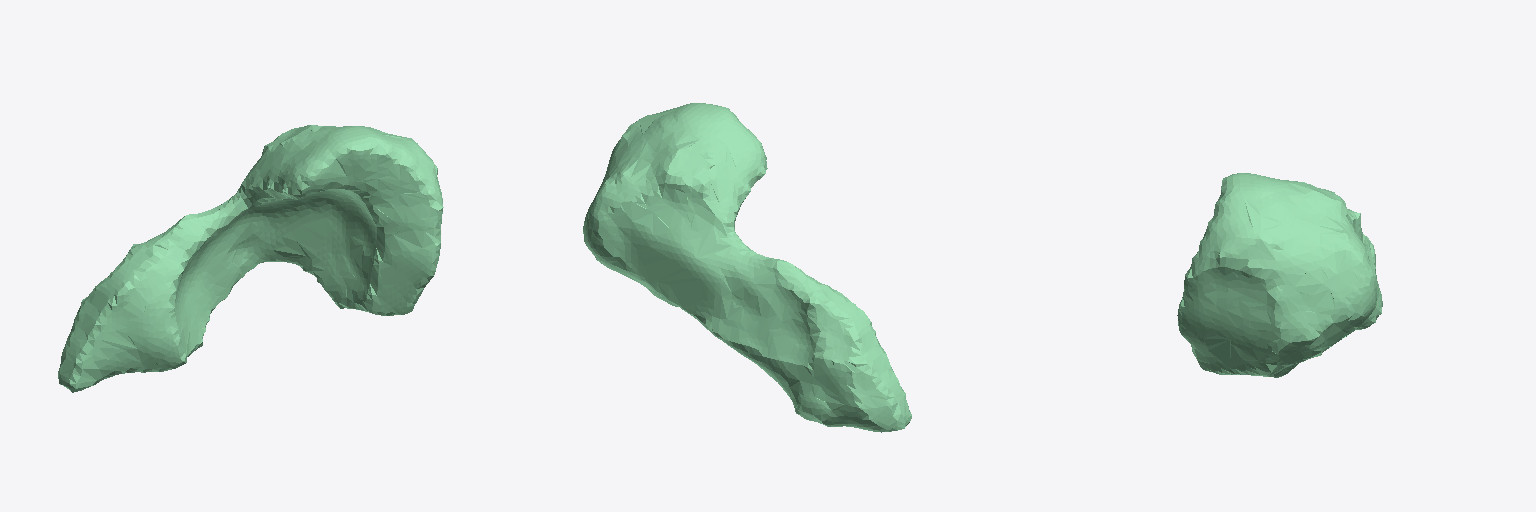
Rendered from Model_10229_LH__Accumbens_nucleus_shell_(AcbSh).obj.
3 views of the same model, side by side, from view 1: azimuth 30°, elevation 25°; view 2: azimuth 150°, elevation 25°; view 3: azimuth 270°, elevation 25° (orthographic).
Size of the model in its own units: 5.21 by 3.42 by 2.78.